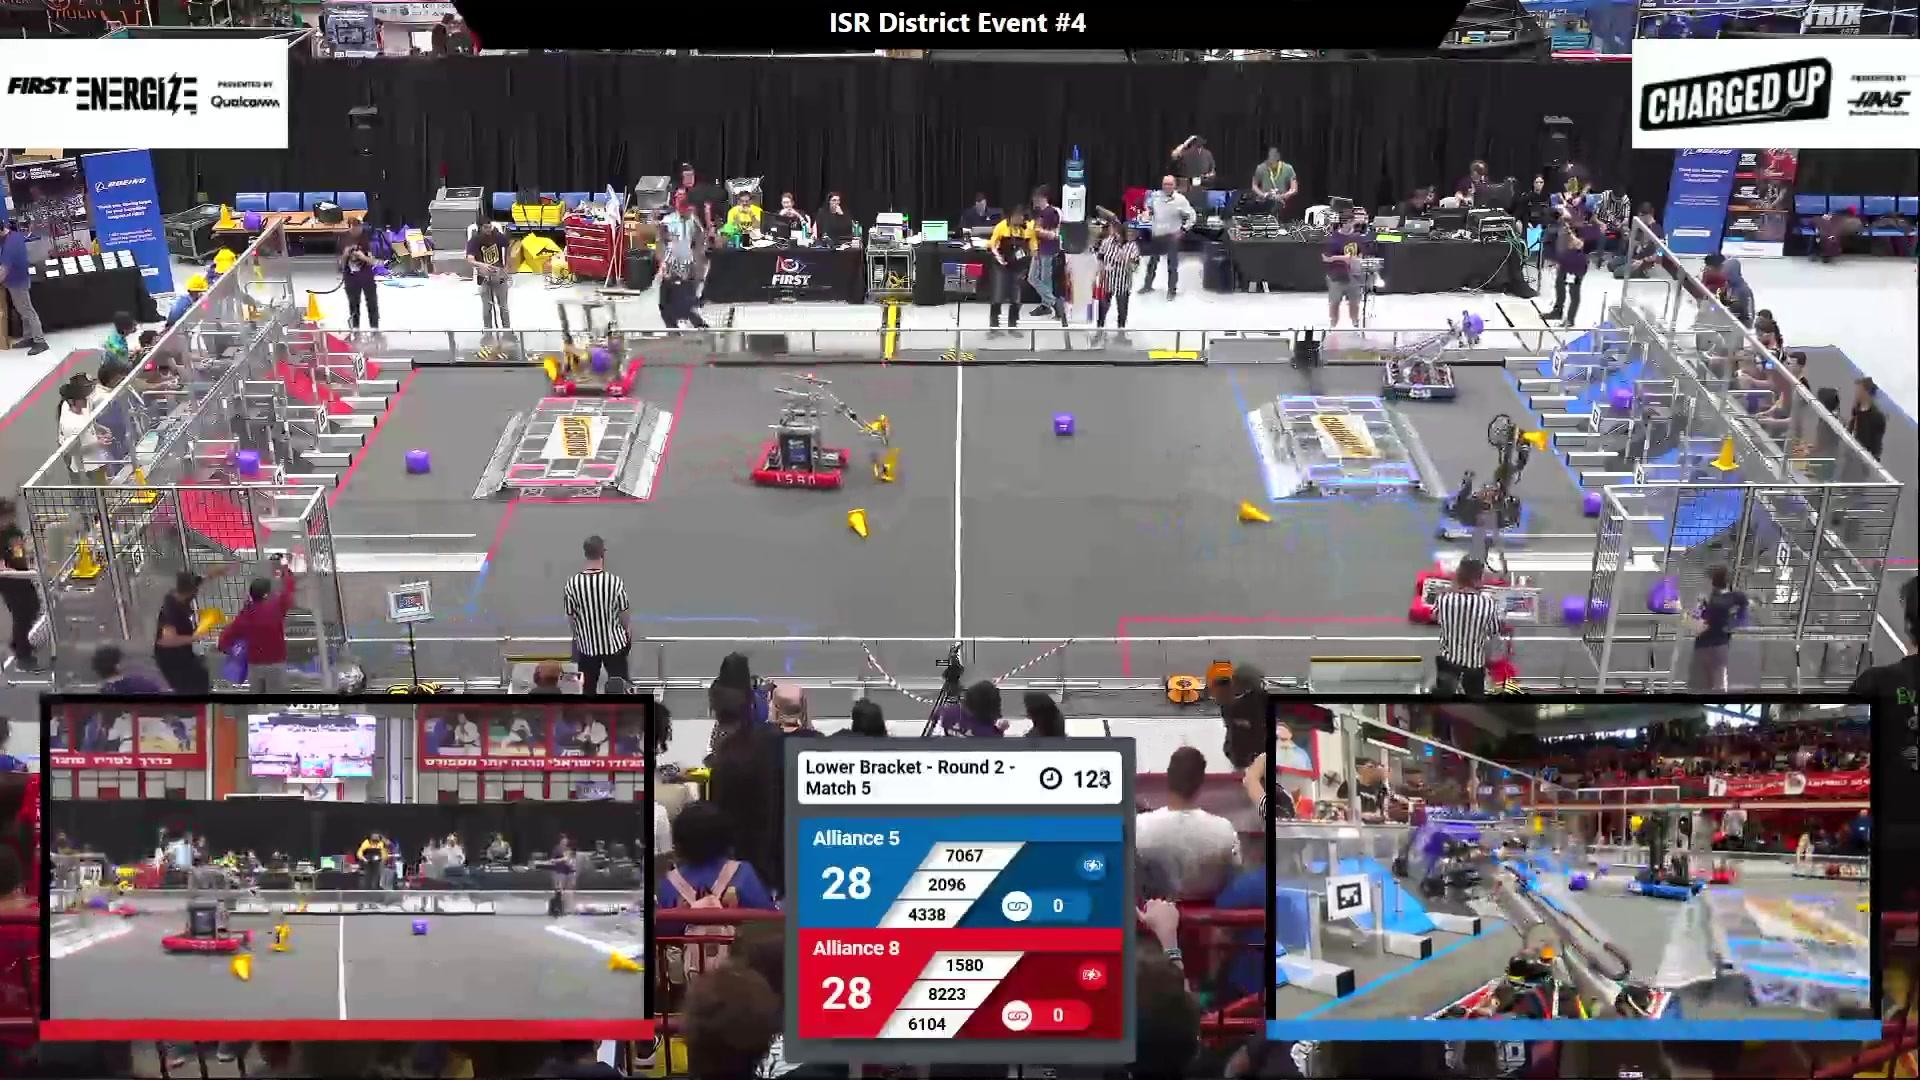robot: (1387, 819, 1681, 1022), (216, 531, 338, 679), (752, 375, 886, 488), (1435, 410, 1545, 545), (1411, 510, 1527, 632), (161, 861, 295, 952), (1378, 310, 1487, 405), (547, 294, 645, 398), (1625, 807, 1702, 901), (63, 852, 140, 920), (1673, 828, 1738, 884)
